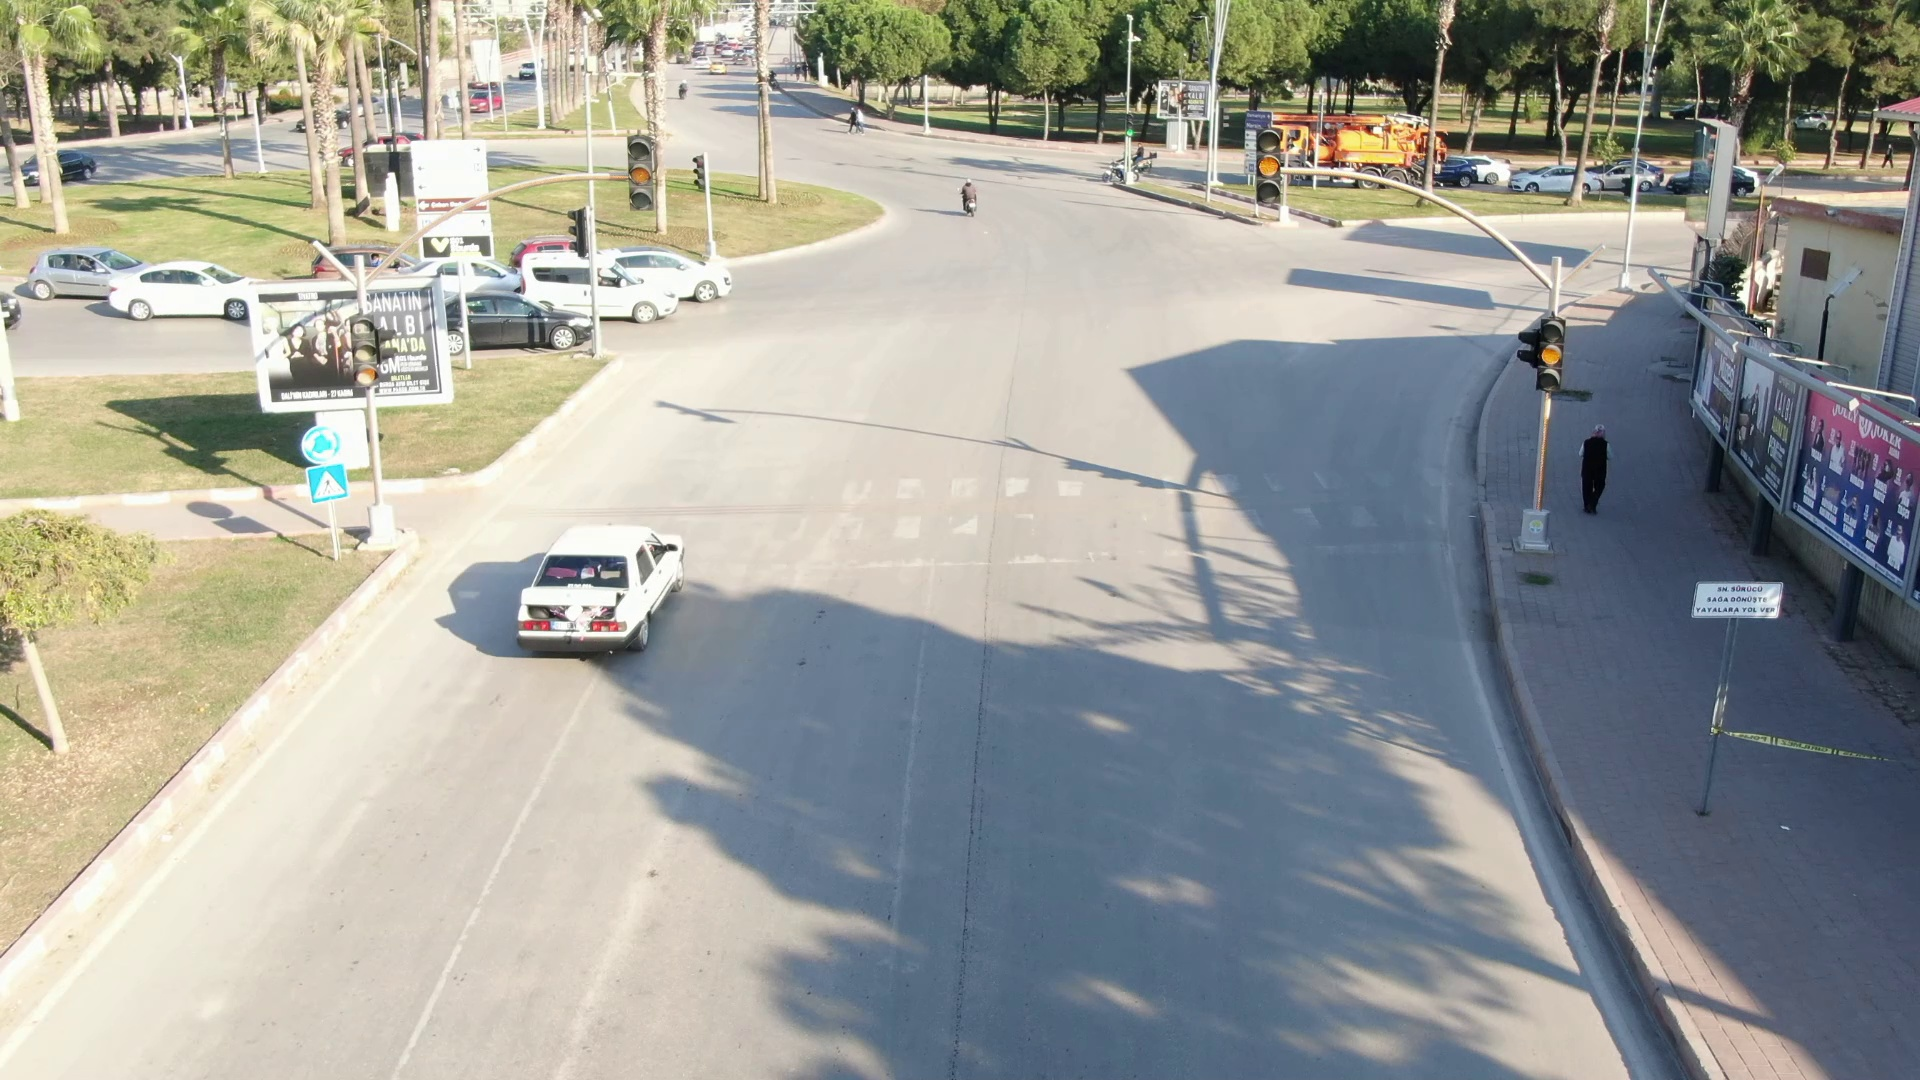car: (517, 515, 714, 690), (512, 251, 686, 327), (439, 290, 600, 357), (590, 239, 733, 300), (10, 241, 143, 300), (108, 263, 249, 315)
person: (1559, 392, 1614, 525), (949, 172, 982, 221)
